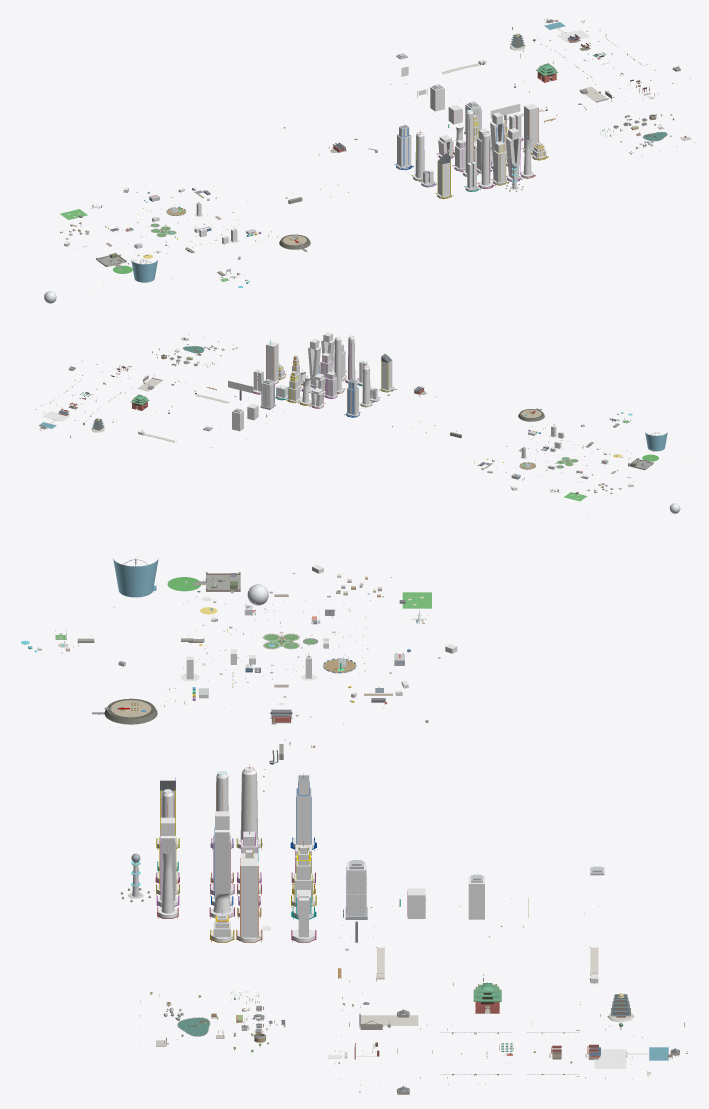
The model's file is cityfree_draco.glb.
3 views of the same model, one above another, from view 1: azimuth 30°, elevation 25°; view 2: azimuth 150°, elevation 25°; view 3: azimuth 270°, elevation 25° (orthographic). The views are drawn at different scales.
Parts seen in each view (by area): view 1: cityfree_city; view 2: cityfree_city; view 3: cityfree_city.
Part boxes in pixels (x1=…): cityfree_city: x1=44, y1=18, x2=694, y2=303; cityfree_city: x1=36, y1=332, x2=685, y2=516; cityfree_city: x1=21, y1=556, x2=687, y2=1094.
Bounding box in the file's own units: 2728 × 385 × 1375.
